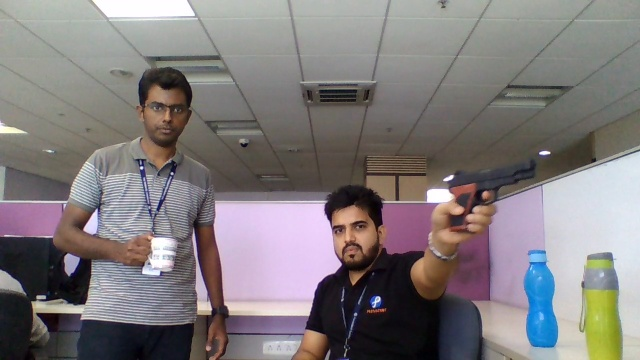gun: (445, 158, 537, 203)
